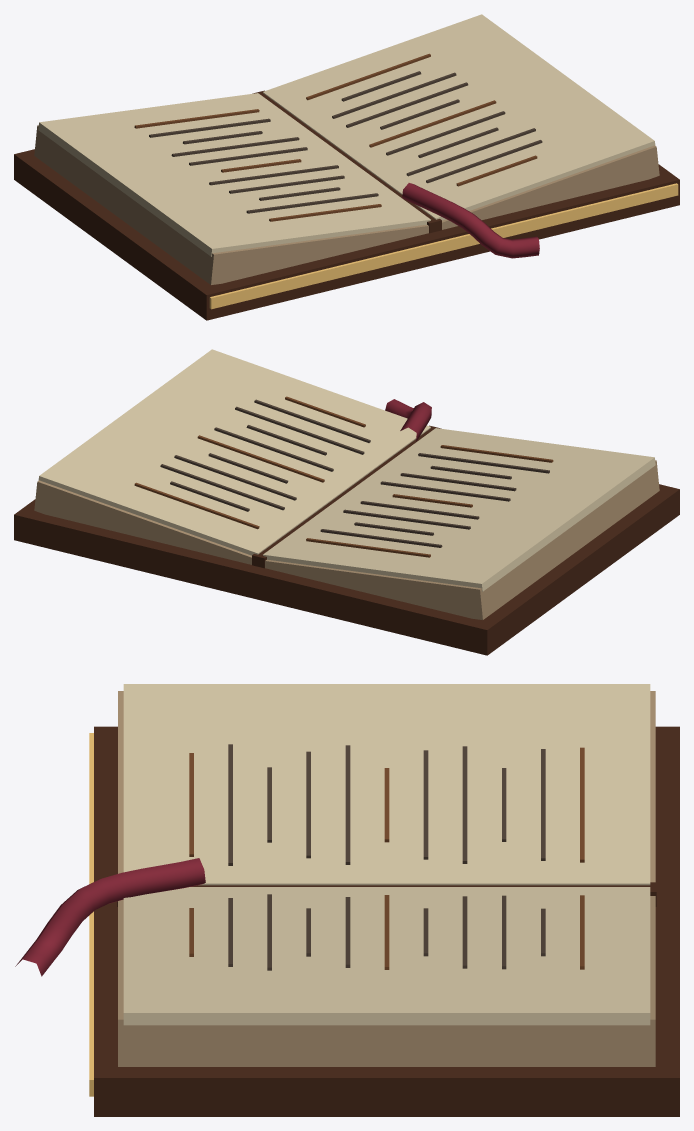
Rendered from mia-book.glb.
3 views of the same model, one above another, from view 1: azimuth 30°, elevation 25°; view 2: azimuth 150°, elevation 25°; view 3: azimuth 270°, elevation 25° (orthographic). The views are drawn at different scales.
Parts seen in each view (by area): view 1: Body_page-light, Body_book-cover, Body_page-beige, Body_book-ink, Body_trim, Body_velvet, Body_rust; view 2: Body_page-light, Body_book-cover, Body_page-beige, Body_book-ink, Body_rust, Body_velvet; view 3: Body_page-light, Body_book-cover, Body_page-beige, Body_book-ink, Body_velvet, Body_rust, Body_trim.
Part boxes in pixels (x1,y1,x2,y2): Body_page-light: [38, 14, 655, 256]; Body_book-cover: [14, 90, 679, 320]; Body_page-beige: [34, 125, 659, 284]; Body_book-ink: [149, 71, 542, 213]; Body_trim: [209, 183, 678, 309]; Body_velvet: [402, 183, 539, 258]; Body_rust: [134, 53, 537, 221]; Body_page-light: [38, 349, 655, 591]; Body_book-cover: [14, 425, 679, 655]; Body_page-beige: [34, 460, 659, 619]; Body_book-ink: [160, 399, 549, 547]; Body_rust: [134, 396, 553, 557]; Body_velvet: [385, 399, 431, 441]; Body_page-light: [123, 684, 650, 1025]; Body_book-cover: [94, 726, 679, 1116]; Body_page-beige: [118, 691, 655, 1066]; Body_book-ink: [228, 744, 545, 970]; Body_velvet: [15, 858, 205, 976]; Body_rust: [189, 747, 584, 969]; Body_trim: [89, 733, 93, 1096].
Bounding box in the file's own units: 0.447 × 0.0549 × 0.3579.
